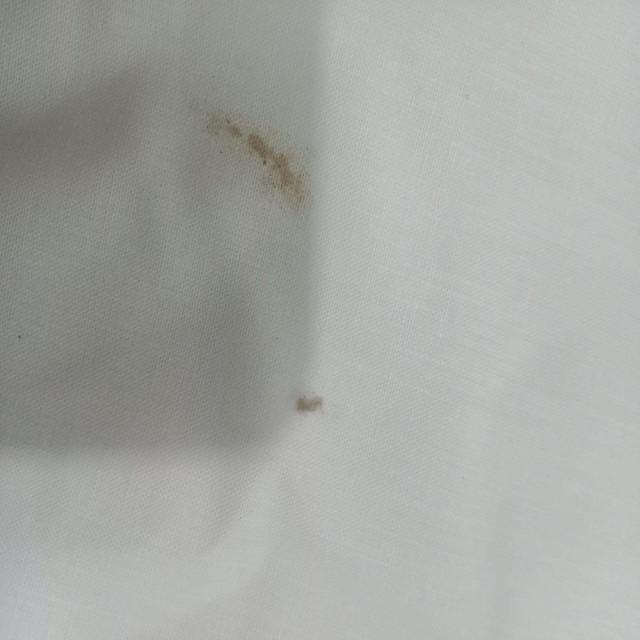stain: (187, 90, 318, 218), (281, 386, 334, 424)
